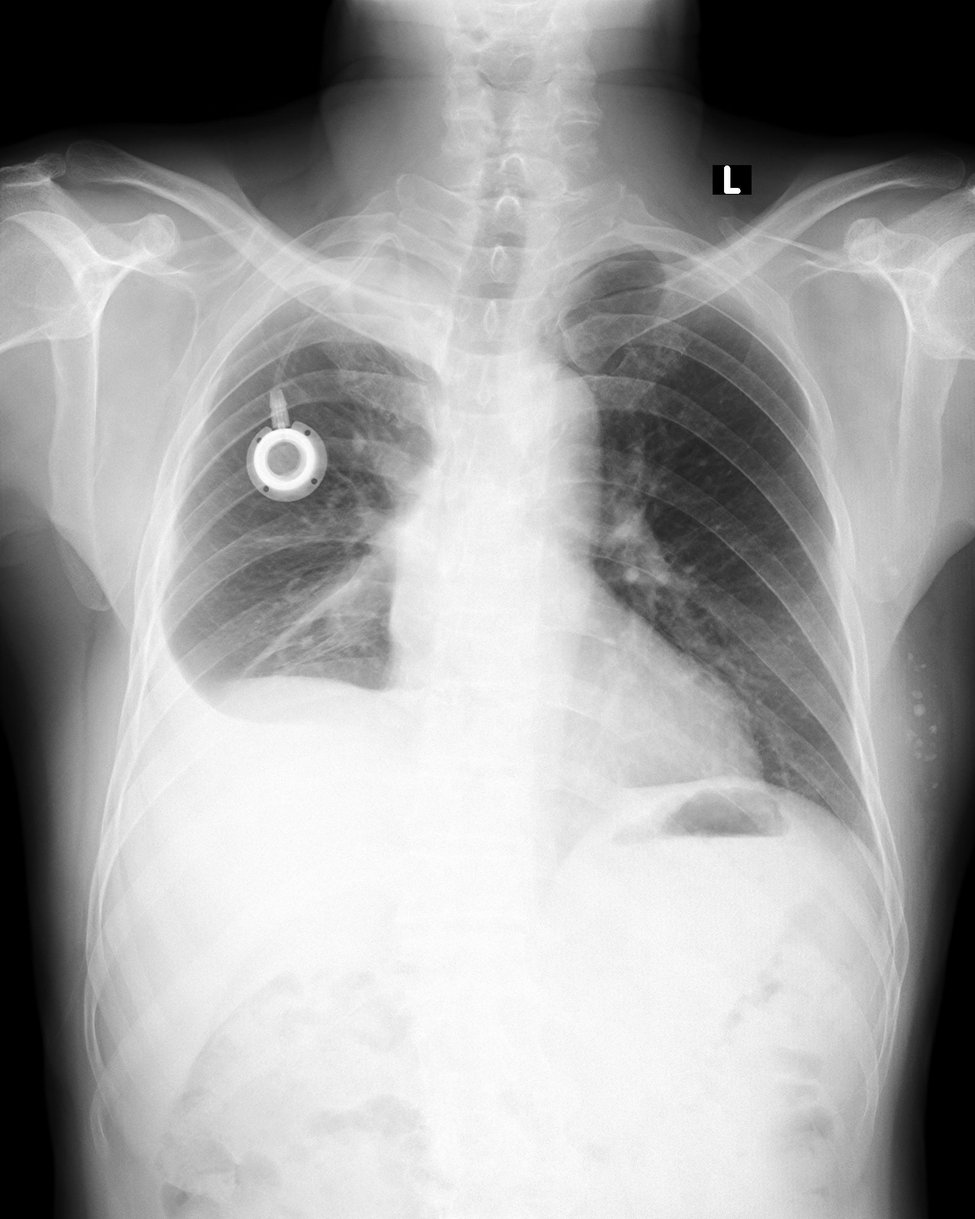Pulmonary fibrosis: (239, 551, 369, 660)
